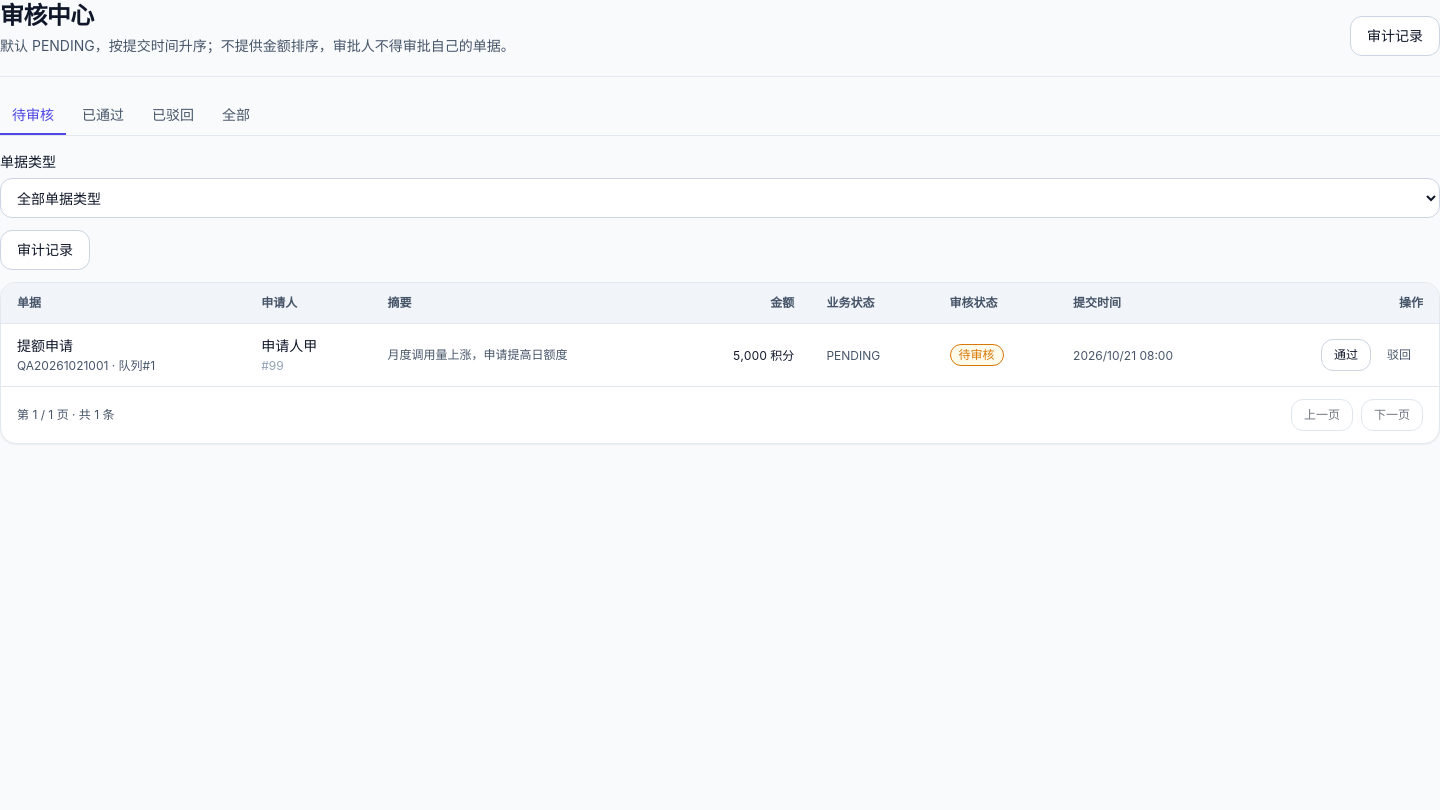
Test: ReviewsPage › ReviewsPage：驳回不填理由不发请求
Expected: the text "申请人甲" is shown, [261, 337, 317, 354]
Step 1. Click the button "驳回" → (1399, 355), box [1375, 339, 1423, 371]
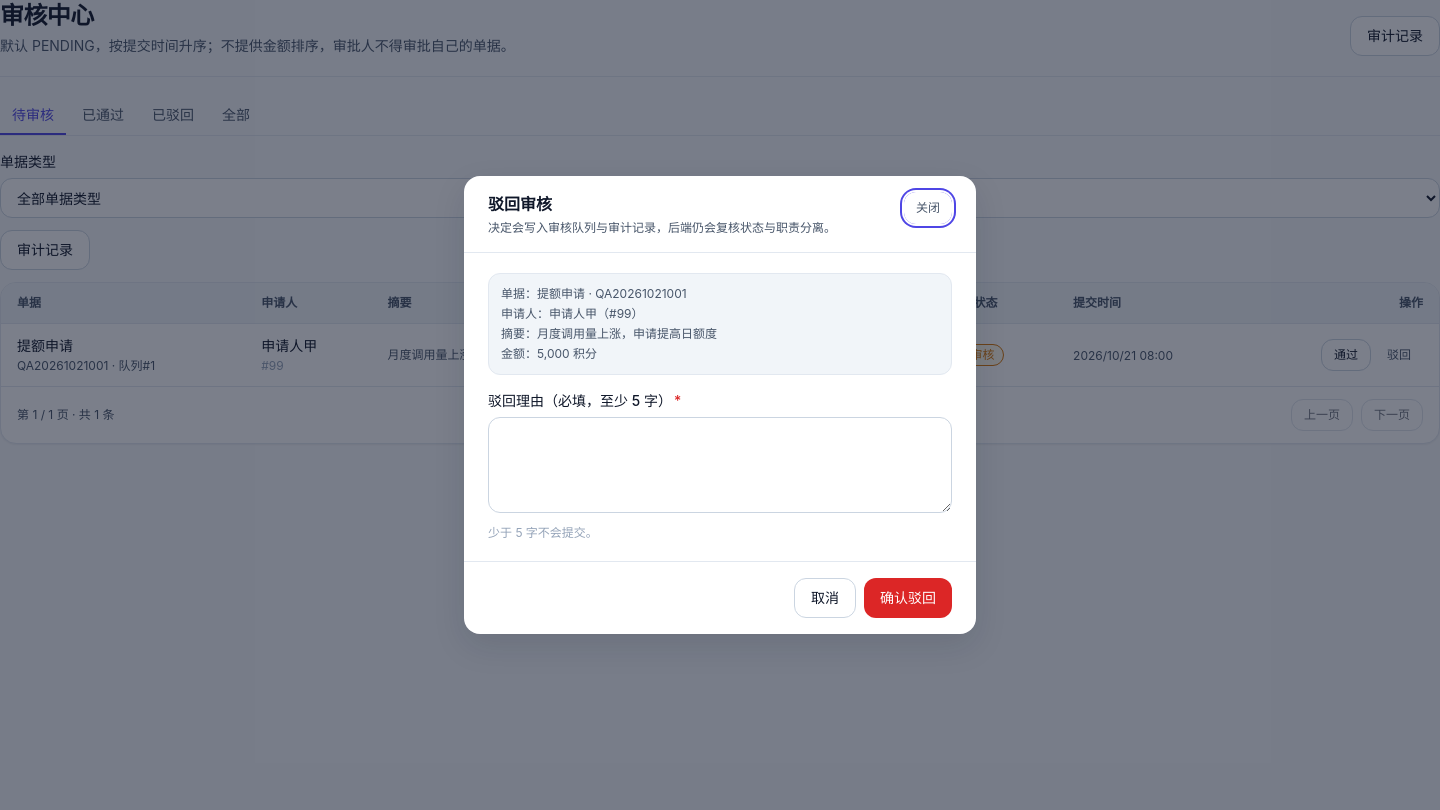
Step 2. Click the button "确认驳回" → (908, 598), box [864, 578, 952, 618]
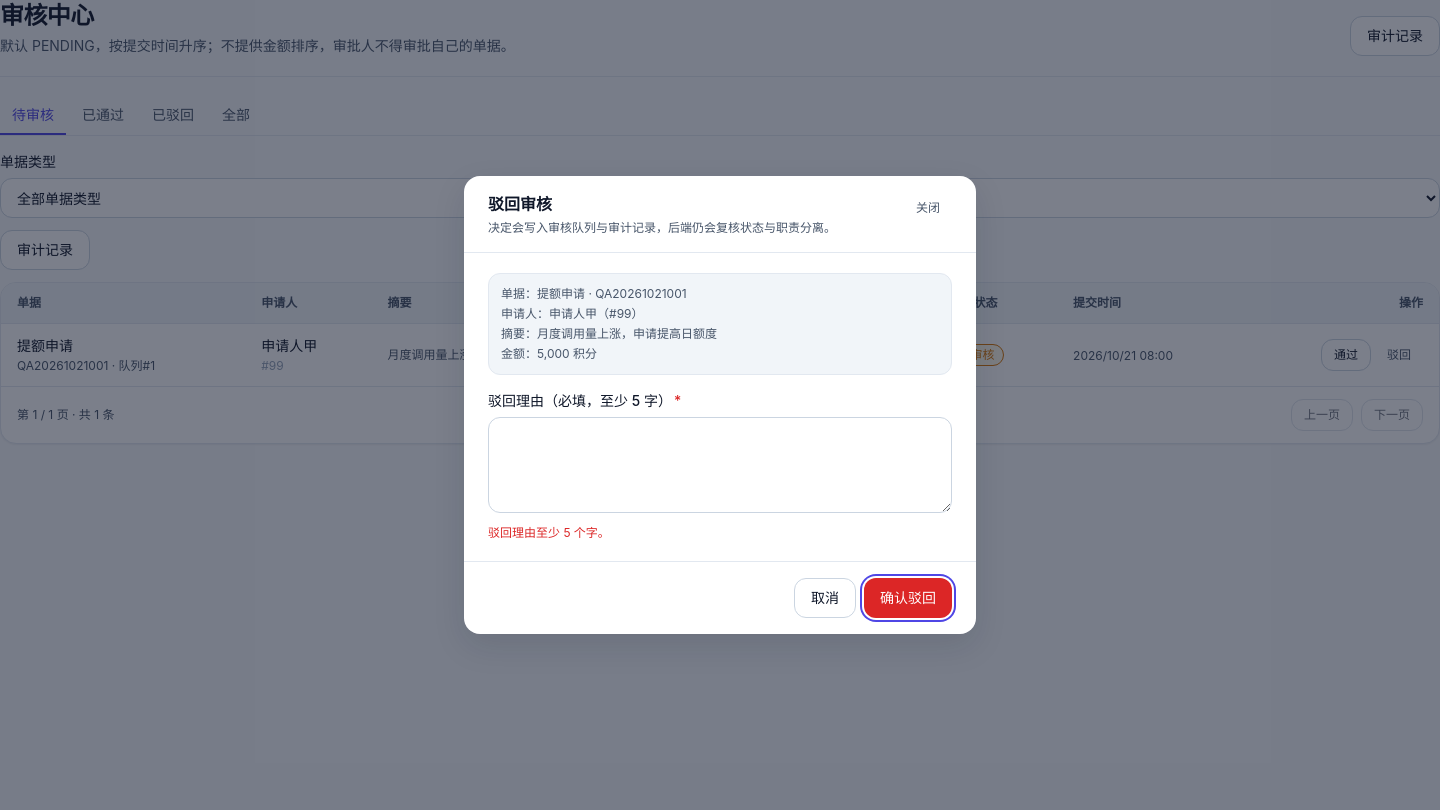
Expected: the text "驳回理由至少 5 个字。" is shown, [488, 525, 610, 540]
Step 3. Type "太短" into the text box labelled "驳回理由（必填，至少 5 字）*" → (720, 465), box [488, 417, 952, 513]
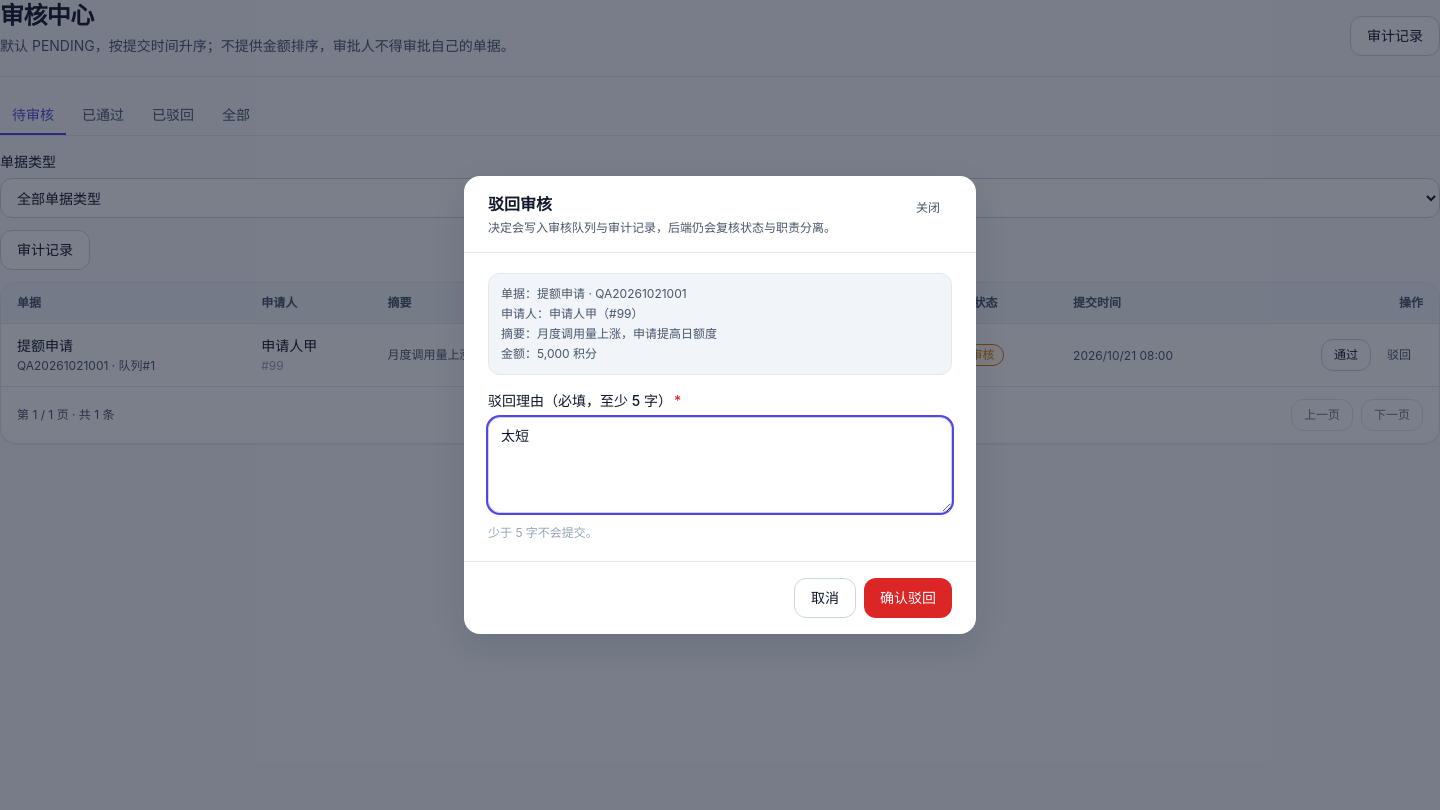
Step 4. Click the button "确认驳回" → (908, 598), box [864, 578, 952, 618]
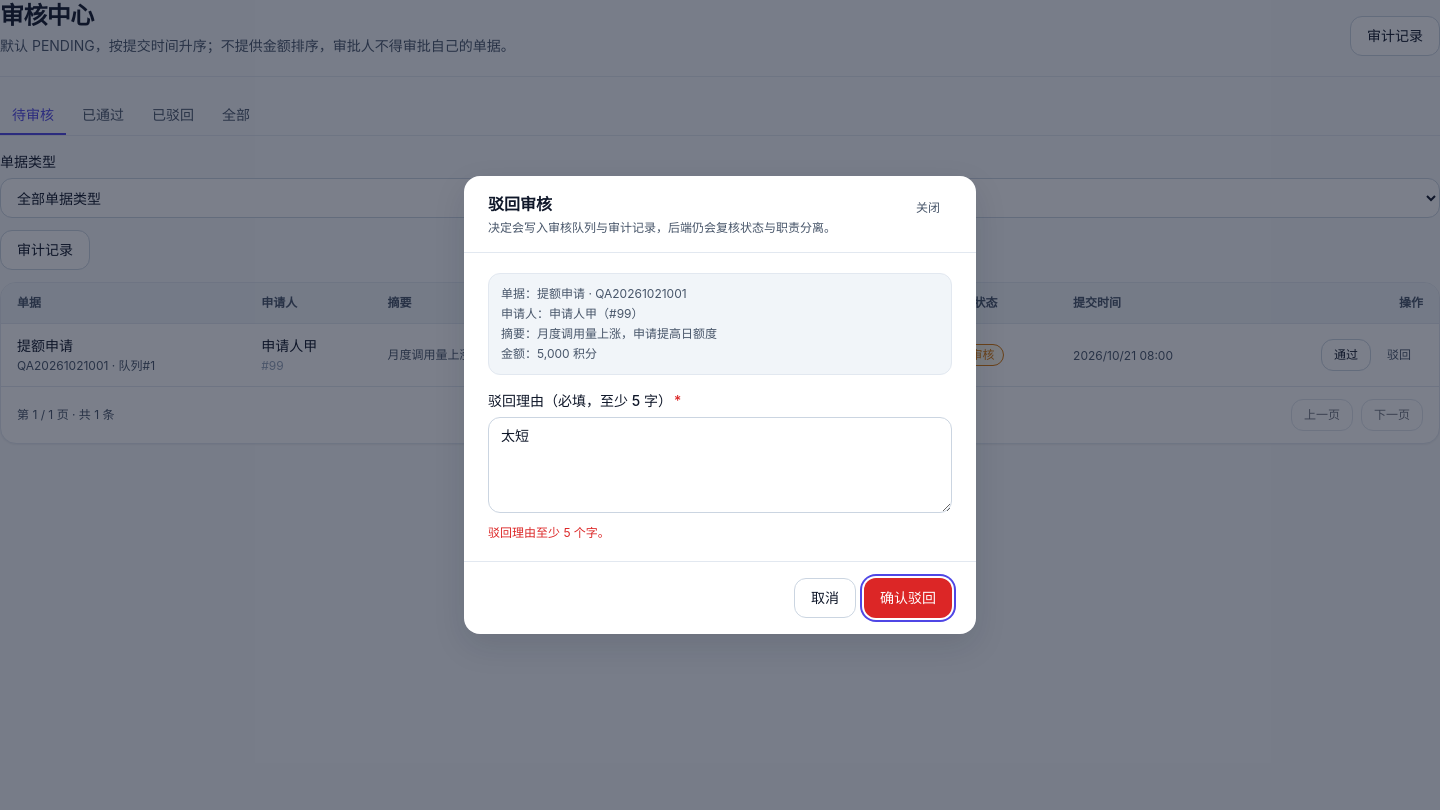
Expected: the text "驳回理由至少 5 个字。" is shown, [488, 525, 610, 540]
